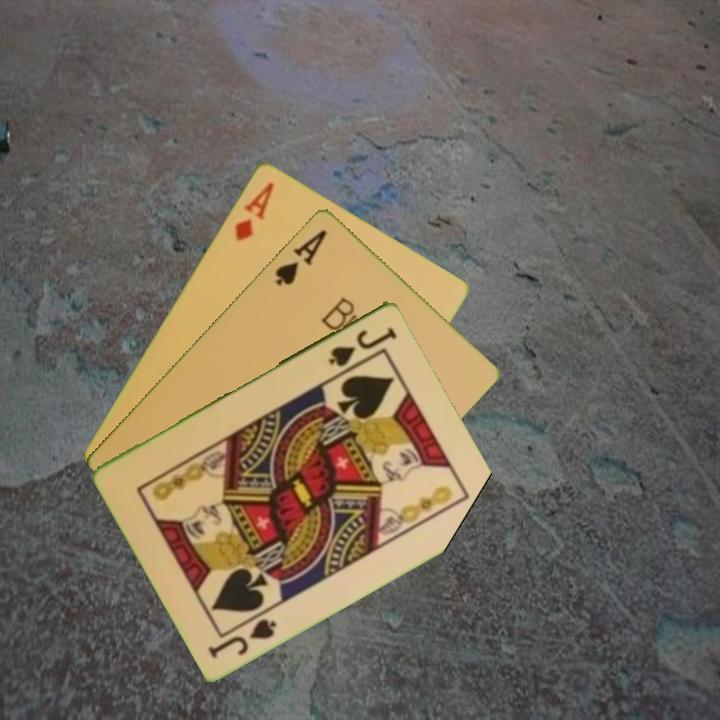Ad: (230, 178, 277, 244)
As: (271, 225, 330, 289)
Js: (204, 614, 279, 661), (324, 323, 399, 369)
